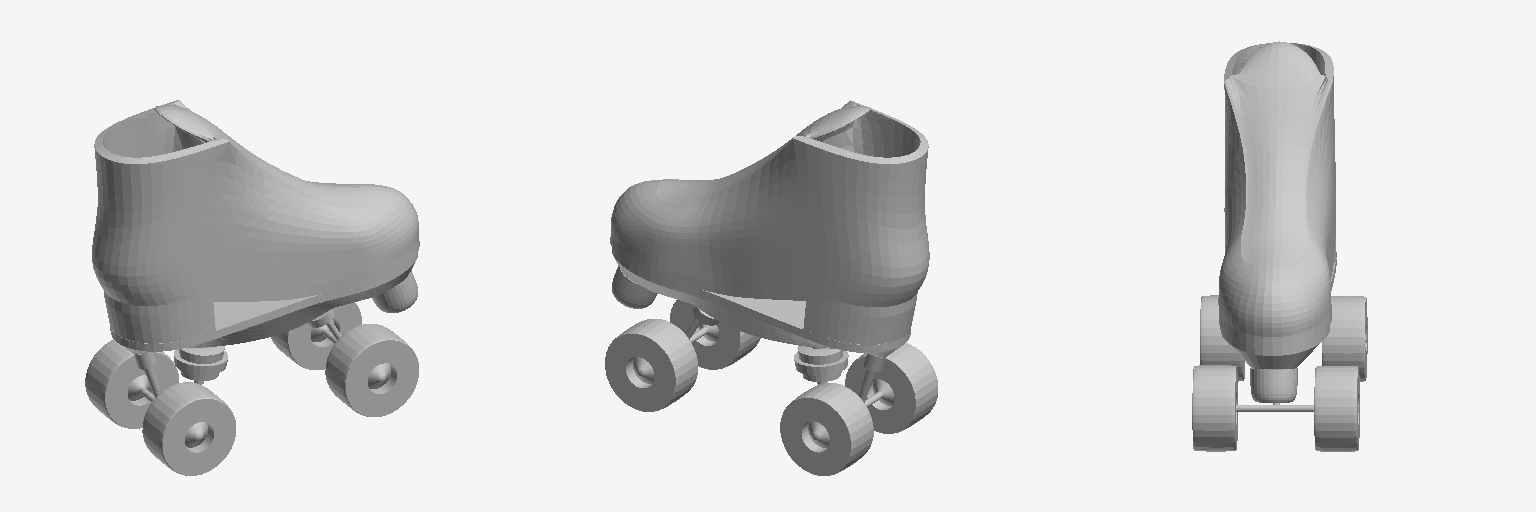
File: rollerSkateLeftFoot.obj
The picture shows the model from 3 angles: view 1: azimuth 30°, elevation 25°; view 2: azimuth 150°, elevation 25°; view 3: azimuth 270°, elevation 25°; orthographic projection.
Visible parts, largest first — view 1: rollerskates, rollerskates.005, rollerskates.007, rollerskates.015, rollerskates.006, rollerskates.002, rollerskates.004; view 2: rollerskates, rollerskates.005, rollerskates.007, rollerskates.015, rollerskates.006, rollerskates.002, rollerskates.004; view 3: rollerskates, rollerskates.007, rollerskates.005, rollerskates.015, rollerskates.002.
Part boxes in pixels (x1,y1,x2,y2): rollerskates: (92,100,419,343); rollerskates.005: (85,339,235,475); rollerskates.007: (271,302,418,416); rollerskates.015: (110,252,417,354); rollerskates.006: (174,346,227,384); rollerskates.002: (372,270,417,312); rollerskates.004: (134,352,160,397); rollerskates: (610,100,929,344); rollerskates.005: (780,343,937,475); rollerskates.007: (605,300,760,411); rollerskates.015: (612,248,911,356); rollerskates.006: (794,345,848,384); rollerskates.002: (612,266,657,308); rollerskates.004: (859,354,885,402); rollerskates: (1218,41,1336,347); rollerskates.007: (1192,365,1359,451); rollerskates.005: (1200,295,1367,381); rollerskates.015: (1220,259,1336,368); rollerskates.002: (1250,368,1297,402).
Bounding box in the file's own units: 18.47 × 18.99 × 8.97.